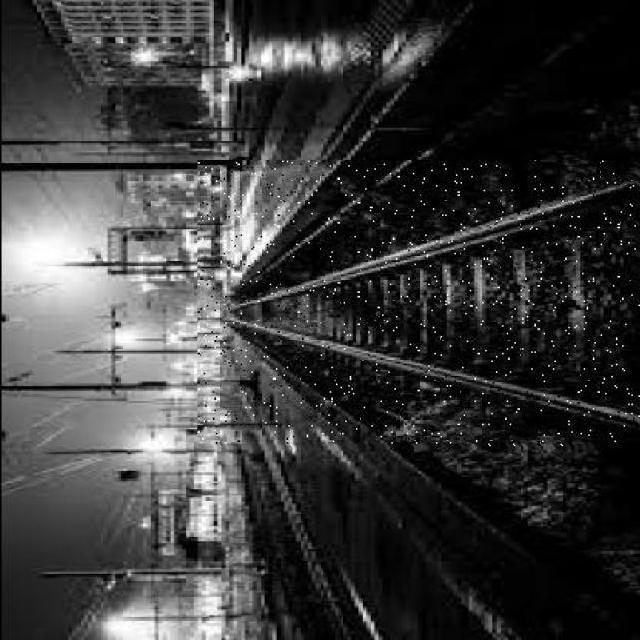rail: (199, 162, 638, 446)
